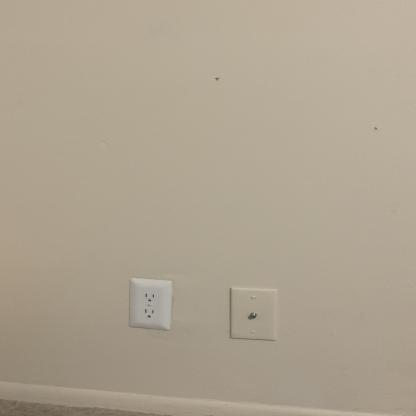OUTLET: (127, 276, 172, 328)
